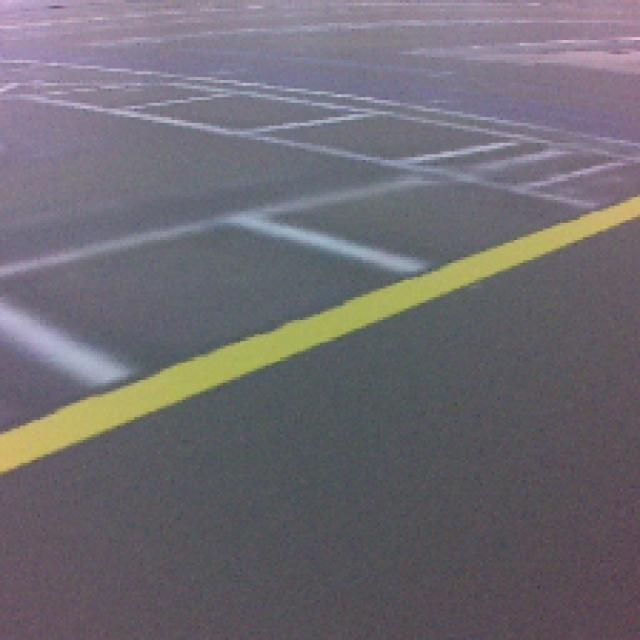Guard rail: (0, 199, 640, 475)
